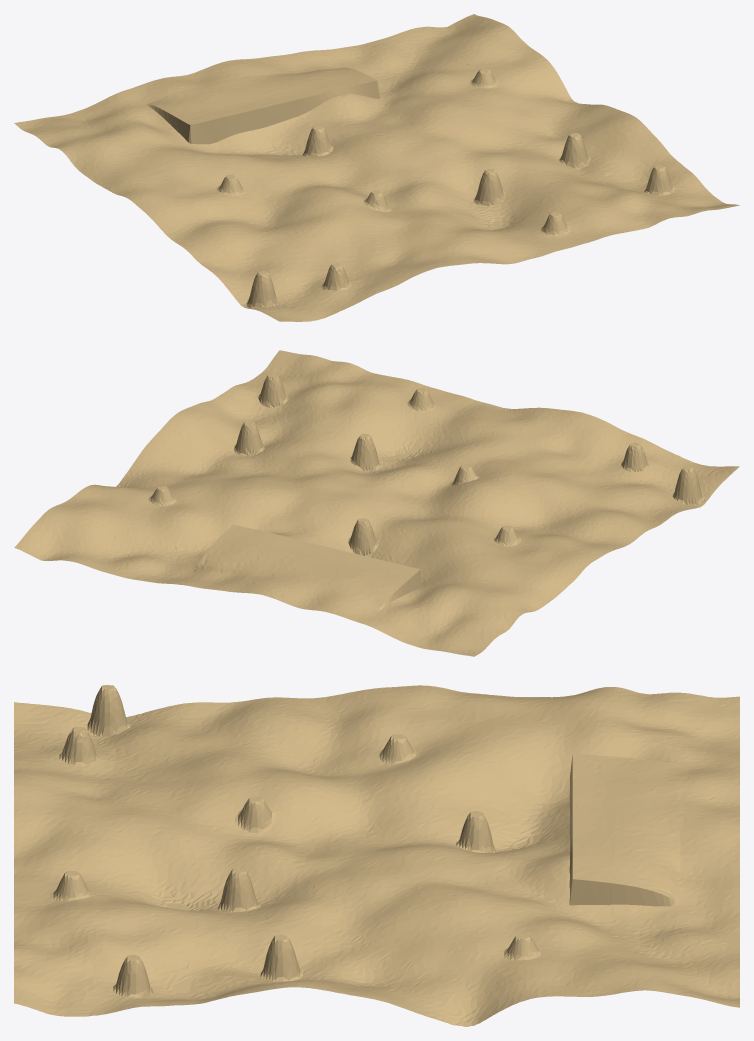
The model's file is mars_path_simple1.dae.
3 views of the same model, one above another, from view 1: azimuth 30°, elevation 25°; view 2: azimuth 150°, elevation 25°; view 3: azimuth 270°, elevation 25° (orthographic). The views are drawn at different scales.
Parts seen in each view (by area): view 1: Curiosity1; view 2: Curiosity1; view 3: Curiosity1.
Boxes of the visible parts, x1,y1,x2,y2 form: Curiosity1: (14,14,739,321); Curiosity1: (14,350,739,656); Curiosity1: (14,685,739,1026).
Size of the model in its own units: 128 by 128 by 8.97.
